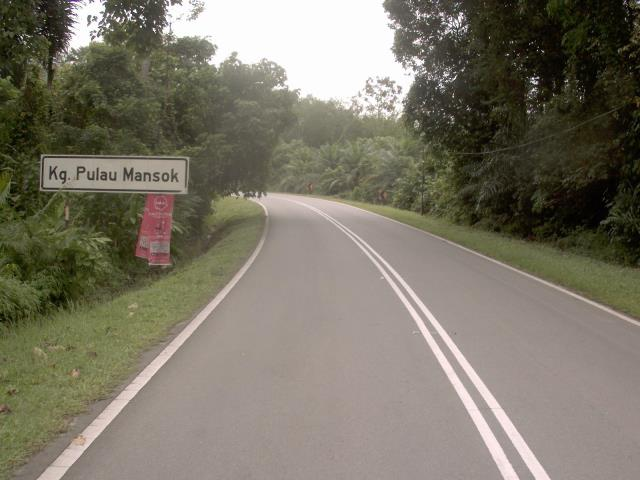ads_sign: (36, 147, 192, 194), (133, 189, 182, 277)
